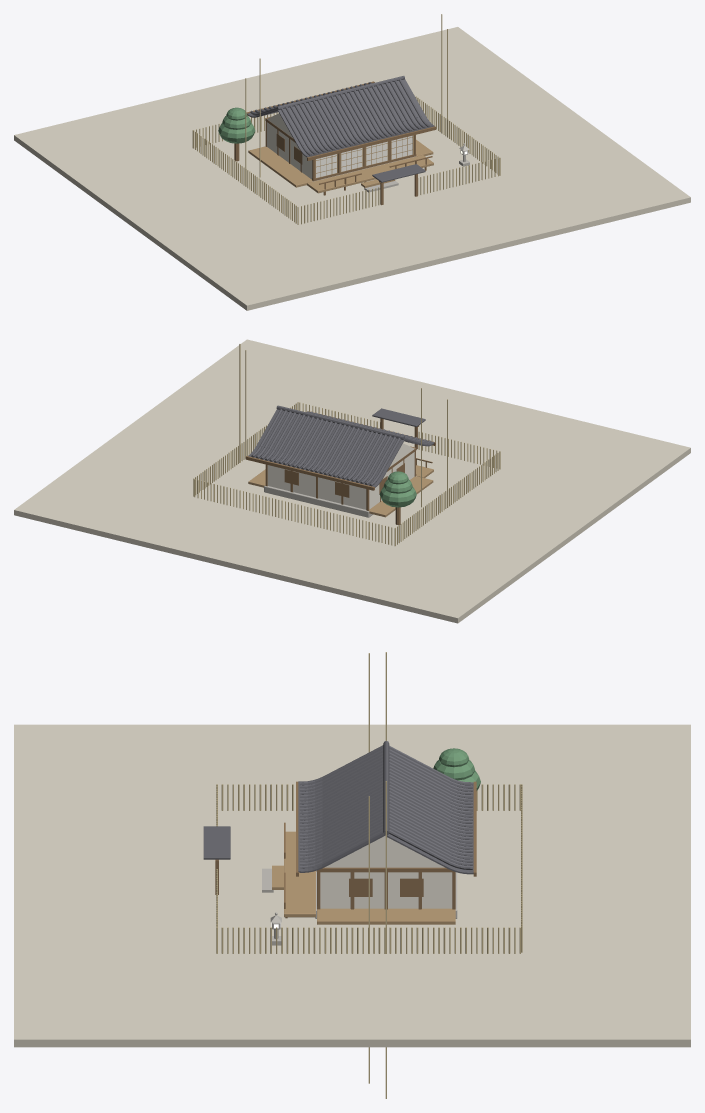
File: jp_house.glb
The picture shows the model from 3 angles, top to bottom: view 1: azimuth 30°, elevation 25°; view 2: azimuth 150°, elevation 25°; view 3: azimuth 270°, elevation 25°; orthographic projection. The views are drawn at different scales.
Parts seen in each view (by area): view 1: Ground, RoofSouth, EngawaF, EngawaL, WallLeft, EaveS, Pine0, GateRoof; view 2: Ground, RoofNorth, WallBack, Foundation, EaveN, WallLeft, Pine0, EngawaL, GateRoof; view 3: Ground, WallRight, EngawaR, GableR, EngawaF, RoofSouth, GateRoof, BeamR.
Boxes of the visible parts, x1,y1,x2,y2 form: Ground: [14, 27, 690, 310]; RoofSouth: [277, 79, 434, 157]; EngawaF: [307, 155, 433, 193]; EngawaL: [248, 146, 312, 187]; WallLeft: [267, 122, 312, 179]; EaveS: [307, 126, 435, 160]; Pine0: [218, 123, 255, 143]; GateRoof: [372, 164, 425, 182]; Ground: [14, 339, 690, 623]; RoofNorth: [248, 409, 404, 487]; WallBack: [267, 465, 366, 509]; Foundation: [264, 476, 416, 517]; EaveN: [245, 456, 374, 490]; WallLeft: [369, 452, 414, 509]; Pine0: [379, 486, 416, 507]; EngawaL: [369, 476, 433, 517]; GateRoof: [372, 408, 425, 426]; Ground: [14, 724, 690, 1047]; WallRight: [320, 872, 452, 908]; EngawaR: [317, 908, 455, 924]; GableR: [324, 835, 444, 867]; EngawaF: [284, 831, 315, 917]; RoofSouth: [298, 745, 385, 872]; GateRoof: [203, 826, 230, 859]; BeamR: [317, 867, 455, 872].
Size of the model in its own units: 44 by 20.7 by 40.
